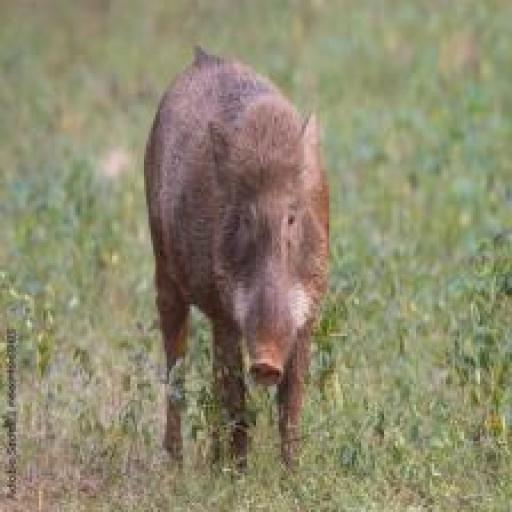Pig: (142, 44, 335, 474)
